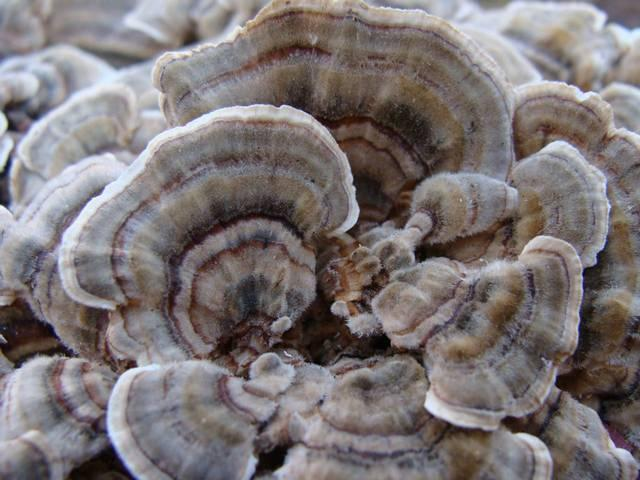poisonous_mushroom: (0, 3, 640, 480), (150, 0, 517, 229), (56, 101, 360, 371)
